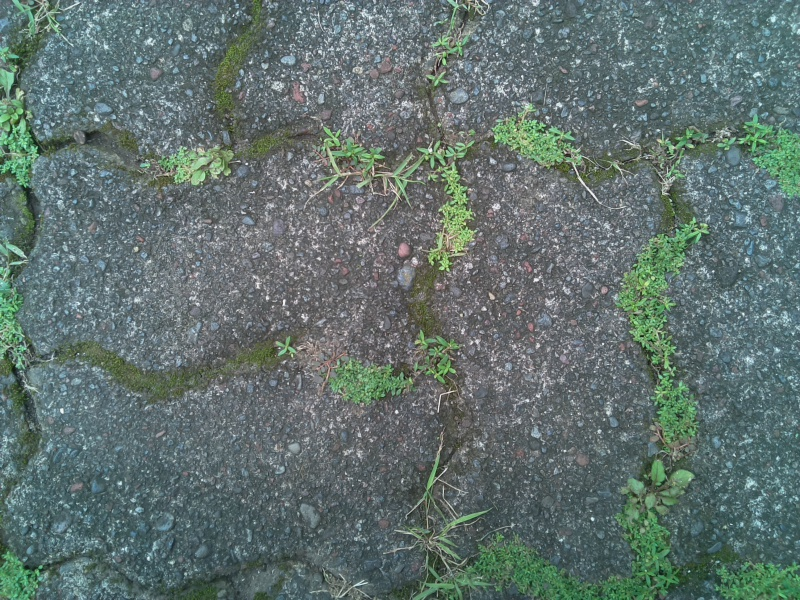Weed: (476, 514, 681, 600), (620, 213, 705, 375), (1, 241, 54, 389), (483, 109, 586, 179), (306, 124, 399, 197), (408, 455, 470, 564), (429, 161, 487, 272), (734, 110, 800, 199), (639, 375, 713, 452), (322, 351, 413, 412), (152, 136, 236, 197), (616, 460, 700, 521), (1, 95, 52, 195), (413, 330, 482, 386), (713, 552, 800, 595), (1, 546, 64, 600), (416, 131, 476, 173), (431, 16, 473, 62), (658, 122, 702, 162), (651, 165, 685, 202), (266, 330, 298, 361), (417, 66, 455, 91)
